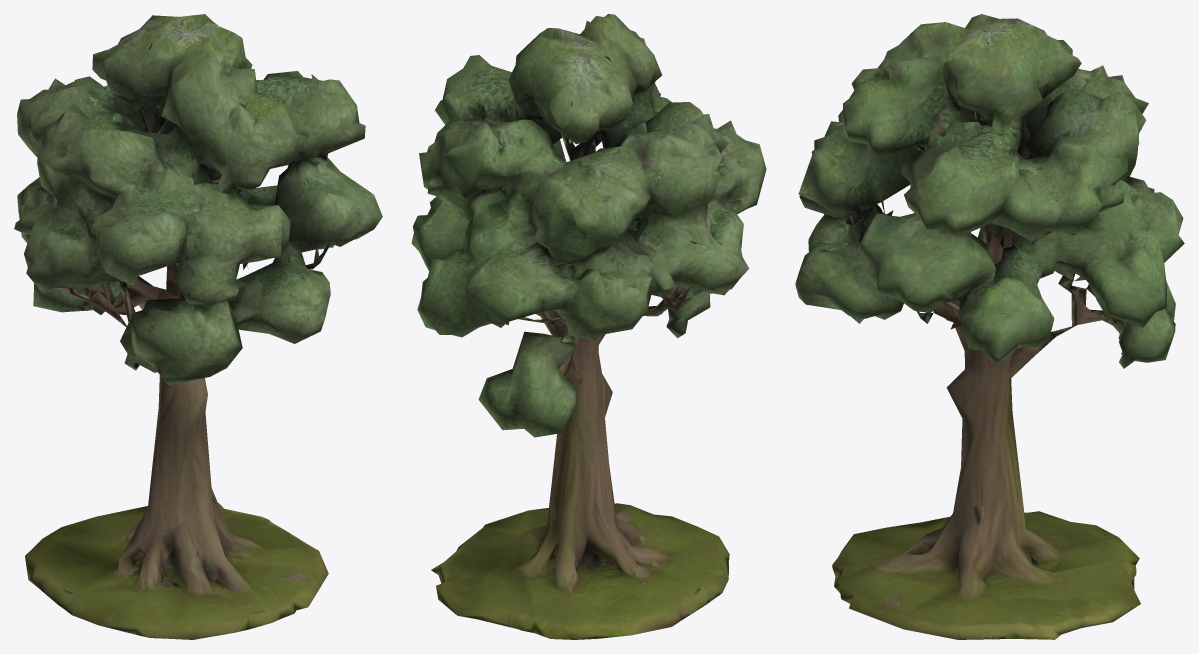
3 renders of one model, left to right at view 1: azimuth 30°, elevation 25°; view 2: azimuth 150°, elevation 25°; view 3: azimuth 270°, elevation 25°, orthographic. The views are drawn at different scales.
Bounding box in the file's own units: 1.19 × 1.9 × 1.19.
1 material, 1 textured.
